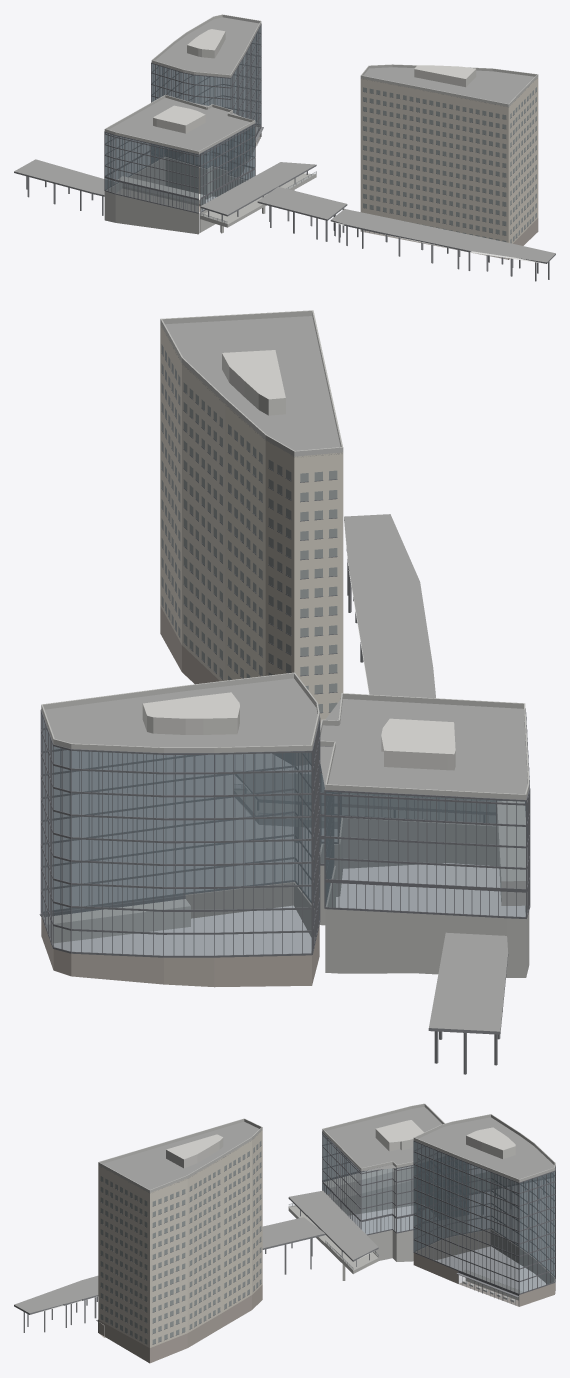
Rendered from d20-neighborhood-pack.glb.
3 views of the same model, one above another, from view 1: azimuth 30°, elevation 25°; view 2: azimuth 150°, elevation 25°; view 3: azimuth 270°, elevation 25° (orthographic). The views are drawn at different scales.
Parts seen in each view (by area): view 1: INFERRED_body.001, INFERRED_ground.001; view 2: INFERRED_body.001, INFERRED_ground.001; view 3: INFERRED_body.001, INFERRED_ground.001.
Part boxes in pixels (x1,y1,x2,y2): INFERRED_body.001: [14, 14, 555, 281]; INFERRED_ground.001: [116, 127, 508, 259]; INFERRED_body.001: [39, 310, 530, 1074]; INFERRED_ground.001: [44, 801, 527, 943]; INFERRED_body.001: [14, 1103, 555, 1363]; INFERRED_ground.001: [101, 1166, 522, 1337].
Bounding box in the file's own units: 143 × 67.23 × 176.
Materials: 5 (1 with a texture image).
